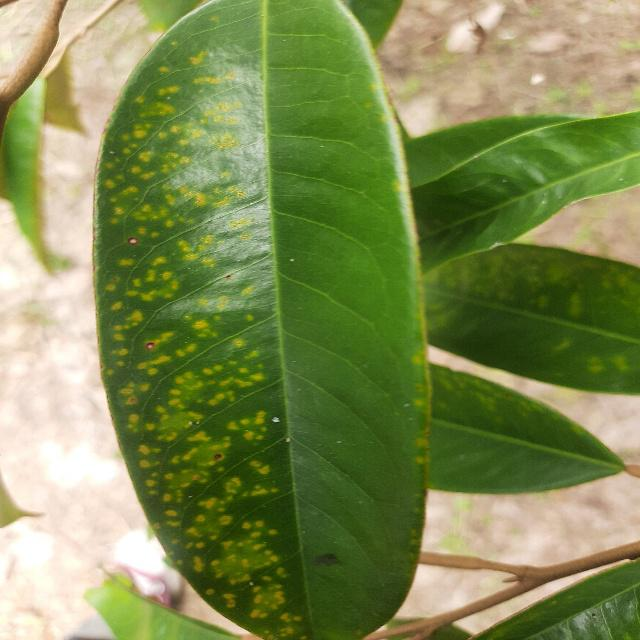Leaf Spot: (75, 0, 444, 639)
